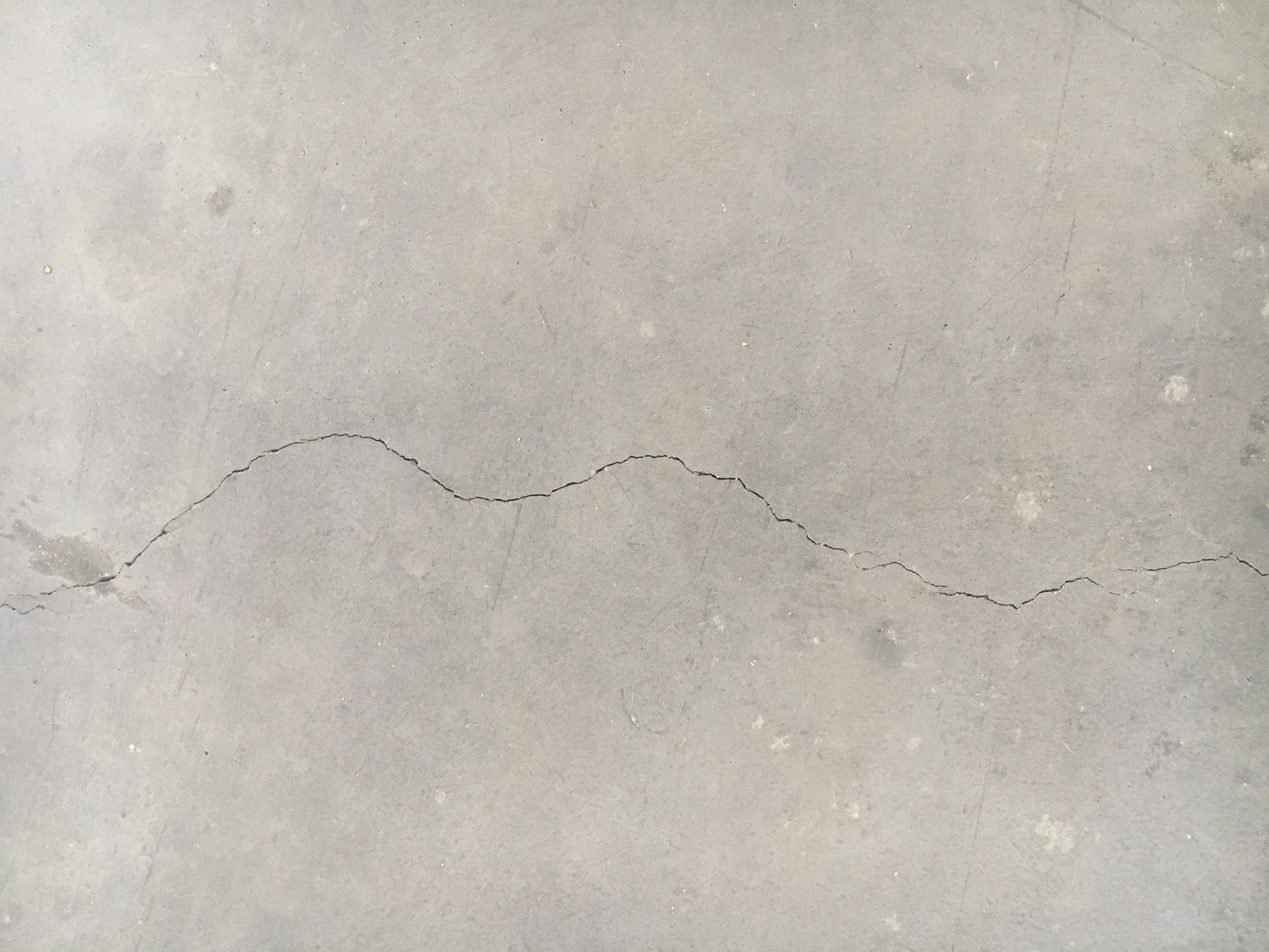Horizontal Settlement Crack: (4, 429, 1265, 622)
